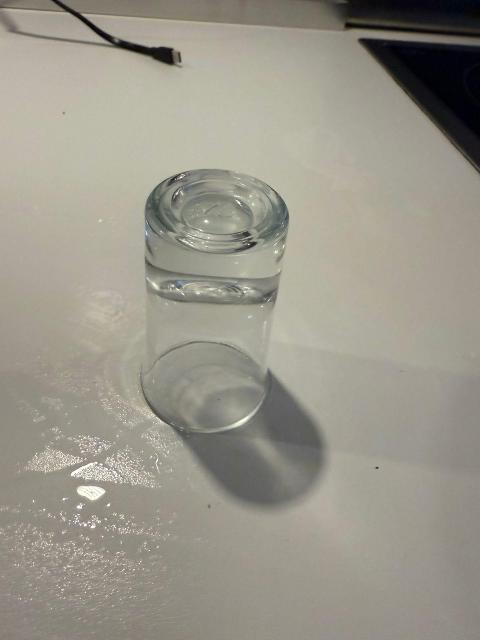Cam: (140, 168, 287, 432)
